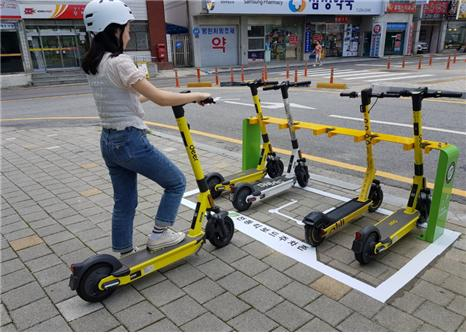kick_handler: (388, 88, 461, 108), (264, 81, 310, 97), (344, 89, 399, 101), (241, 79, 265, 95)
kick_neck: (413, 114, 426, 188), (363, 109, 374, 179)
kick_wheel: (71, 254, 116, 299), (353, 225, 379, 264), (207, 213, 234, 247), (303, 212, 324, 245), (233, 183, 250, 210), (203, 173, 222, 196), (368, 181, 383, 210), (416, 193, 430, 224), (295, 164, 309, 188), (268, 160, 283, 178)
